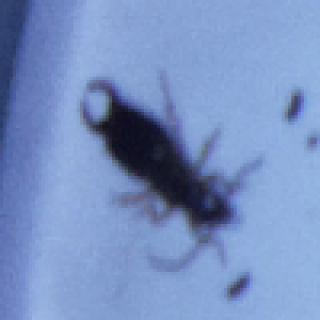earwig: (77, 68, 266, 276)
